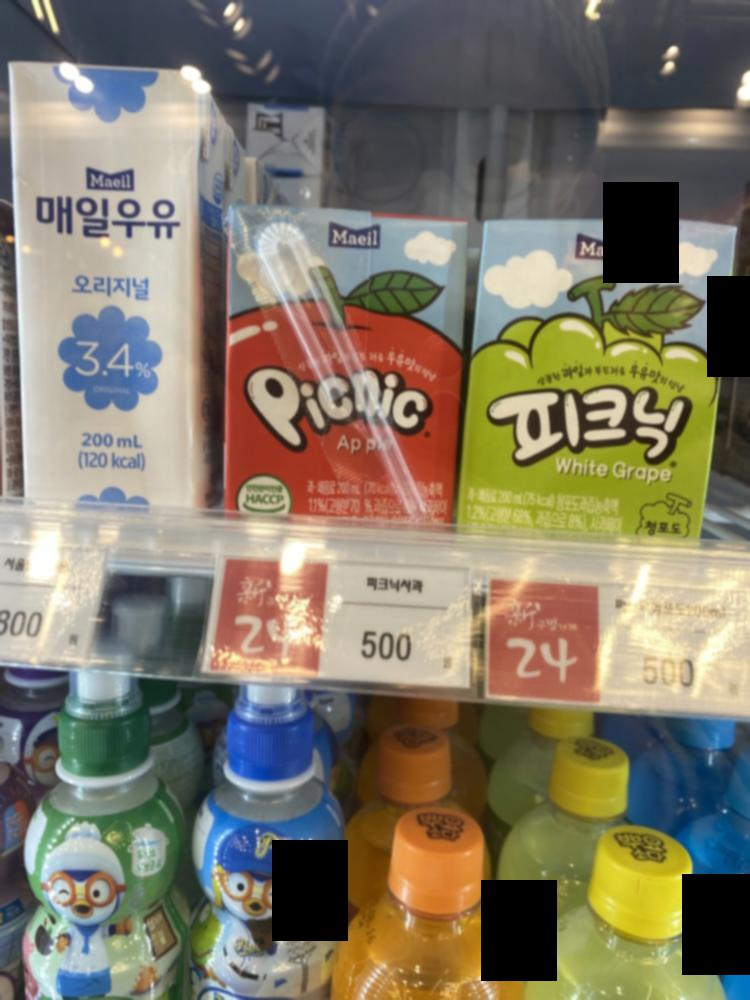picnic_apple: (216, 183, 449, 551)
